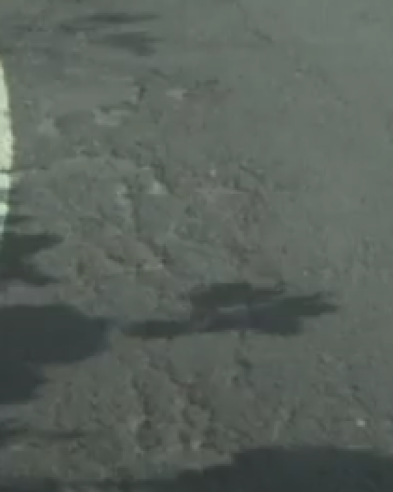Retak Buaya: (22, 56, 307, 492)
